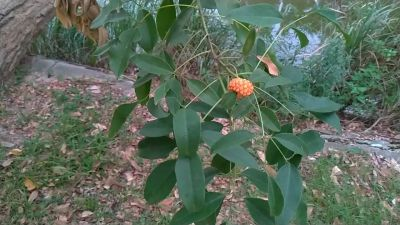eggs: (227, 74, 257, 98)
